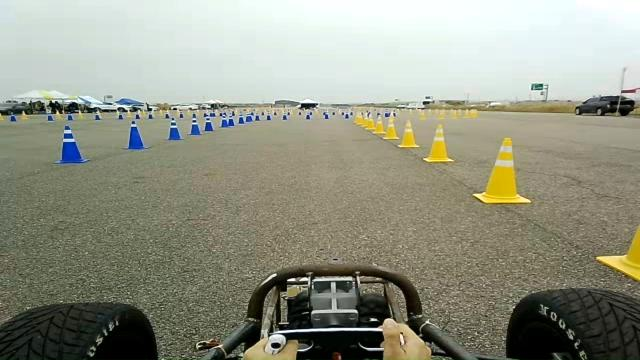blue cone: (53, 124, 90, 164), (121, 116, 148, 150), (162, 113, 185, 140), (188, 113, 202, 135), (204, 114, 214, 131), (219, 112, 228, 128), (280, 110, 292, 122), (253, 109, 262, 122), (265, 108, 274, 121), (227, 112, 235, 126), (238, 111, 245, 124), (245, 110, 252, 123)
yellow cone: (472, 137, 531, 204), (595, 224, 639, 281), (422, 124, 454, 162), (398, 119, 420, 148), (383, 117, 399, 139), (372, 114, 386, 134), (363, 111, 375, 130), (353, 110, 363, 125)
